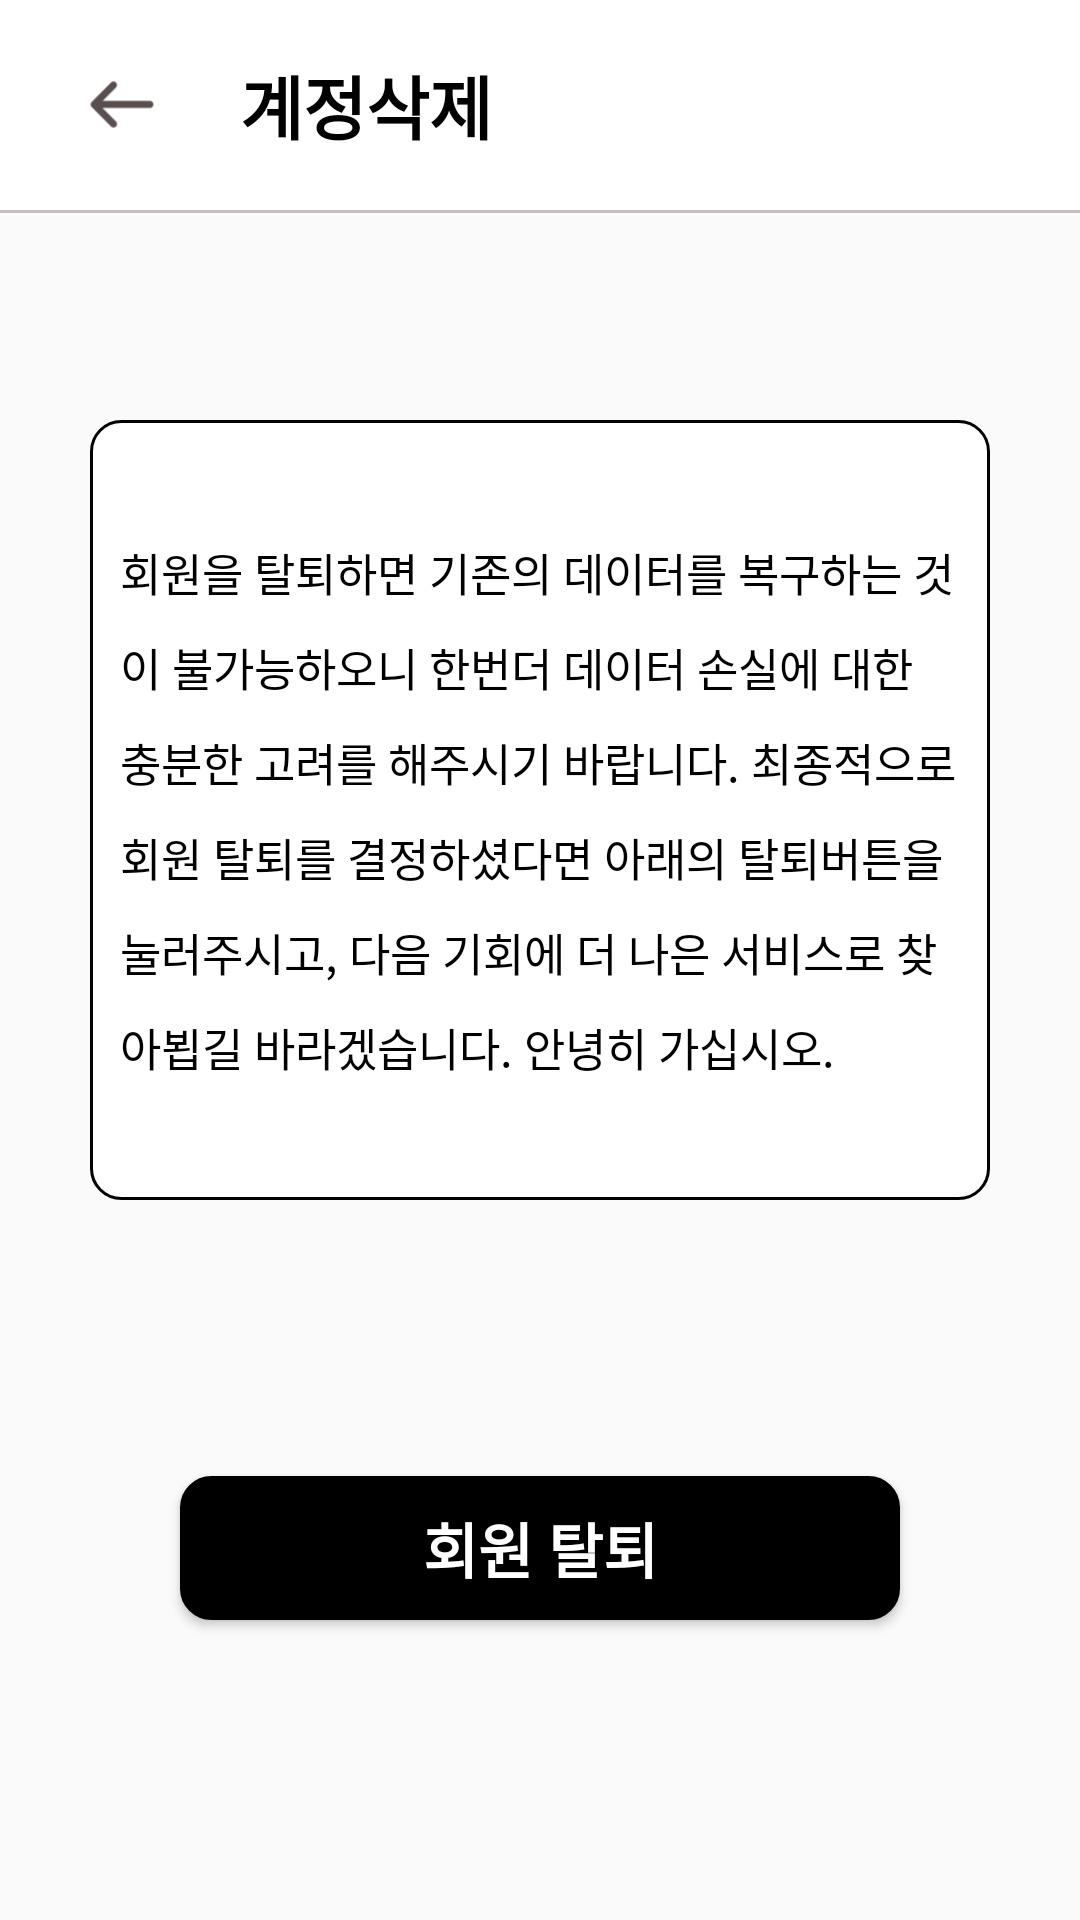

Icon click points for this 1080px×1920px phone screenshot, format (x,y):
back arrow: (122,104)
